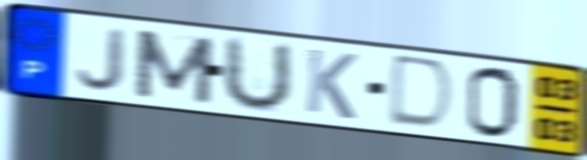0: (464, 64, 525, 140)
D: (384, 52, 459, 134)
J: (73, 25, 130, 93)
K: (302, 45, 360, 123)
M: (131, 26, 217, 106)
U: (218, 34, 295, 115)
